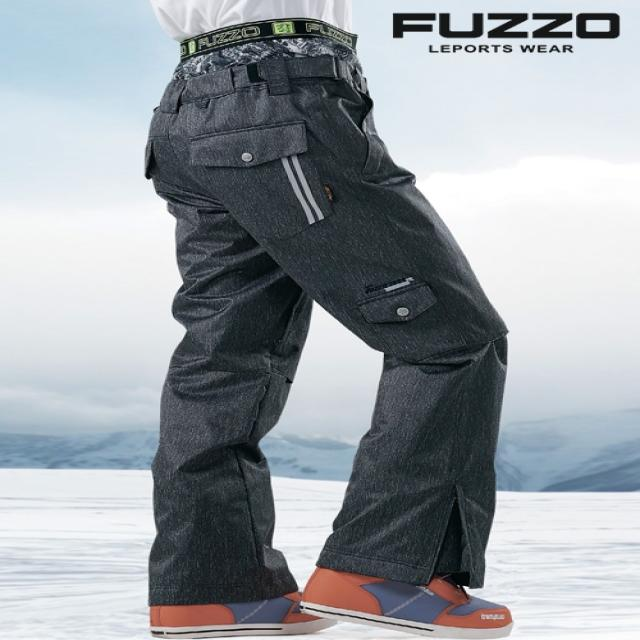pants: (130, 68, 516, 599)
